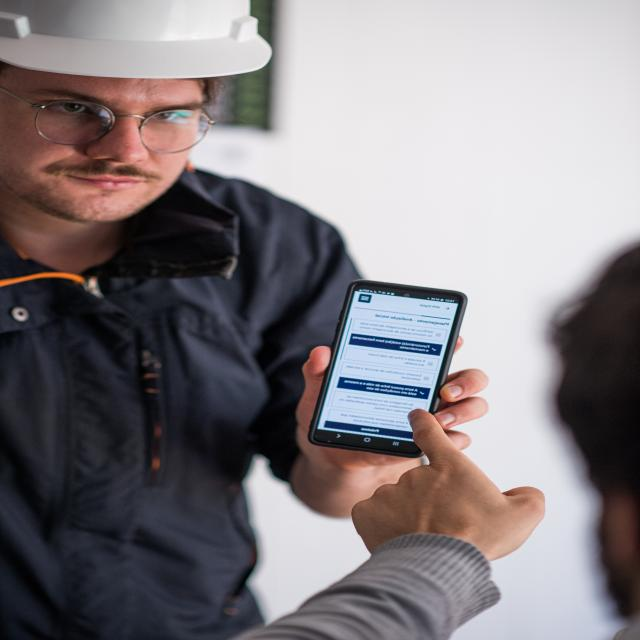capacete: (0, 0, 277, 79)
